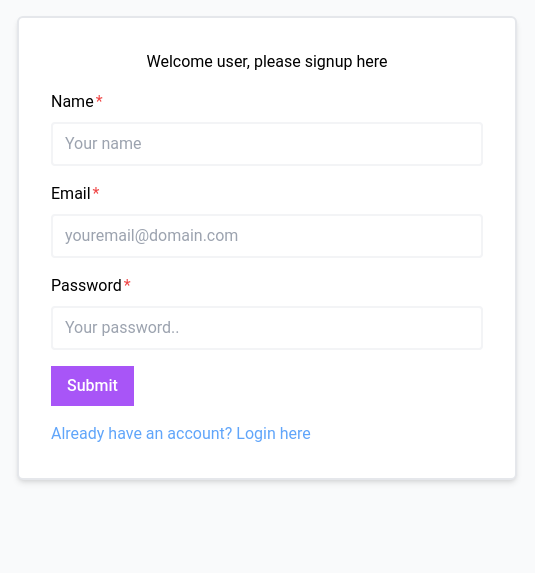
it: SignupForm Component › displays validation errors
Click the button "Submit". click: [92, 386]
box: top-left (51, 366), bottom-right (134, 406)
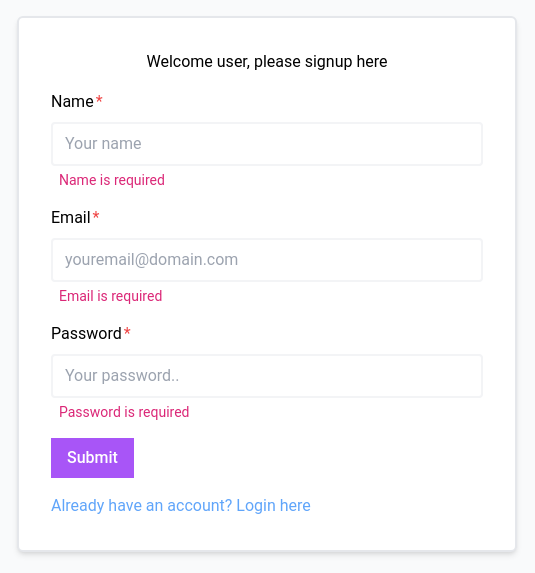
Check: the text "Name is required" is shown, box top-left (59, 172), bottom-right (165, 188)
Check: the text "Email is required" is shown, box top-left (59, 288), bottom-right (162, 304)
Check: the text "Password is required" is shown, box top-left (59, 404), bottom-right (190, 420)
